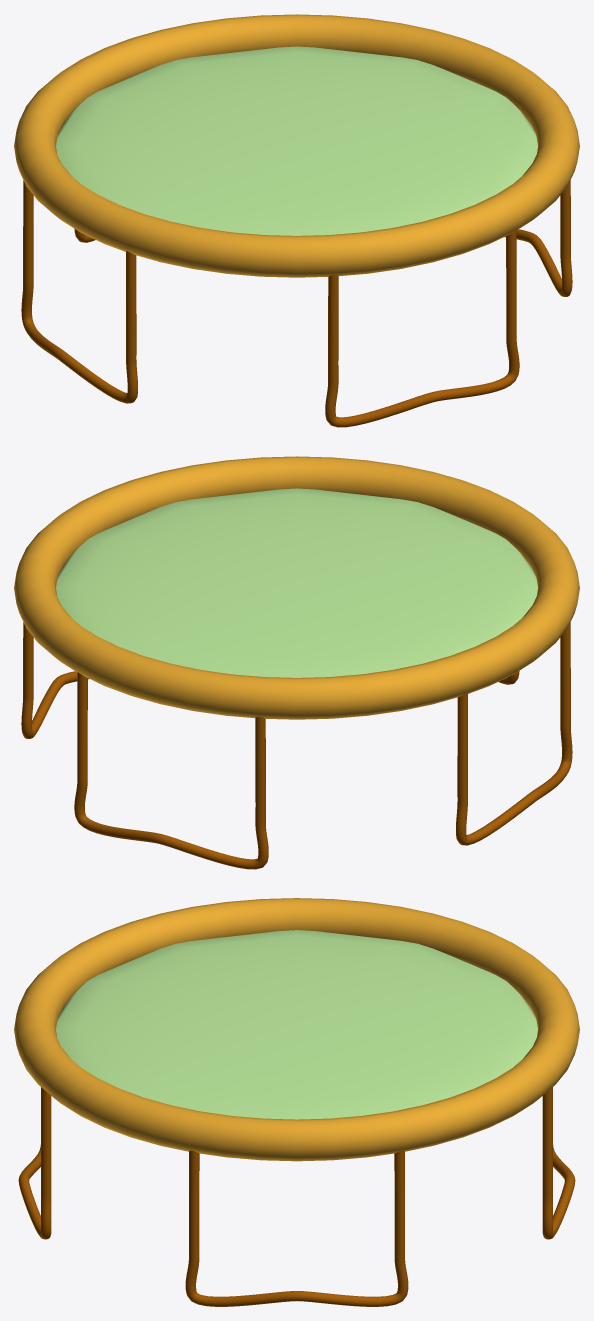
The model's file is FunSmall2Trampoline.fbx.
The picture shows the model from 3 angles, top to bottom: view 1: azimuth 30°, elevation 25°; view 2: azimuth 150°, elevation 25°; view 3: azimuth 270°, elevation 25°; orthographic projection.
Parts seen in each view (by area): view 1: TrampolineS2; view 2: TrampolineS2; view 3: TrampolineS2.
Part boxes in pixels (x1,y1,x2,y2): TrampolineS2: (14, 14, 579, 427); TrampolineS2: (14, 456, 579, 869); TrampolineS2: (14, 898, 579, 1306).
Size of the model in its own units: 54 by 19.76 by 54.
